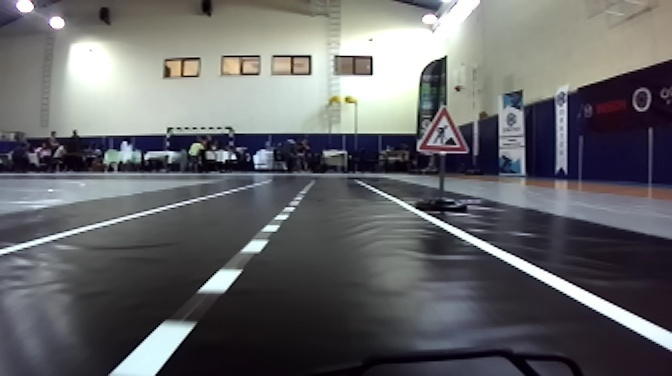yol_yapimi: (411, 99, 470, 158)
